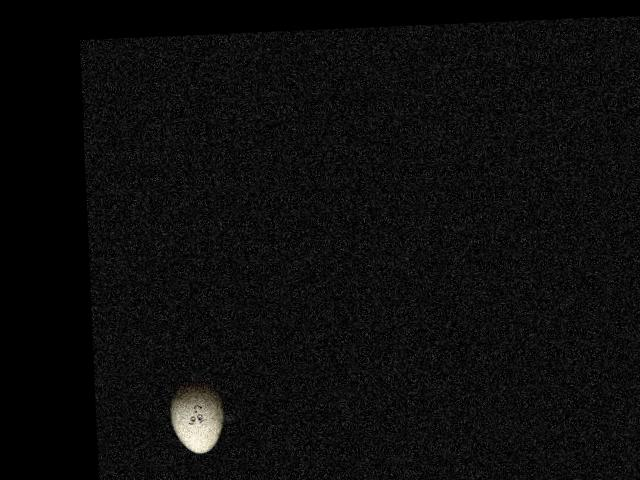egg: (169, 382, 224, 454)
